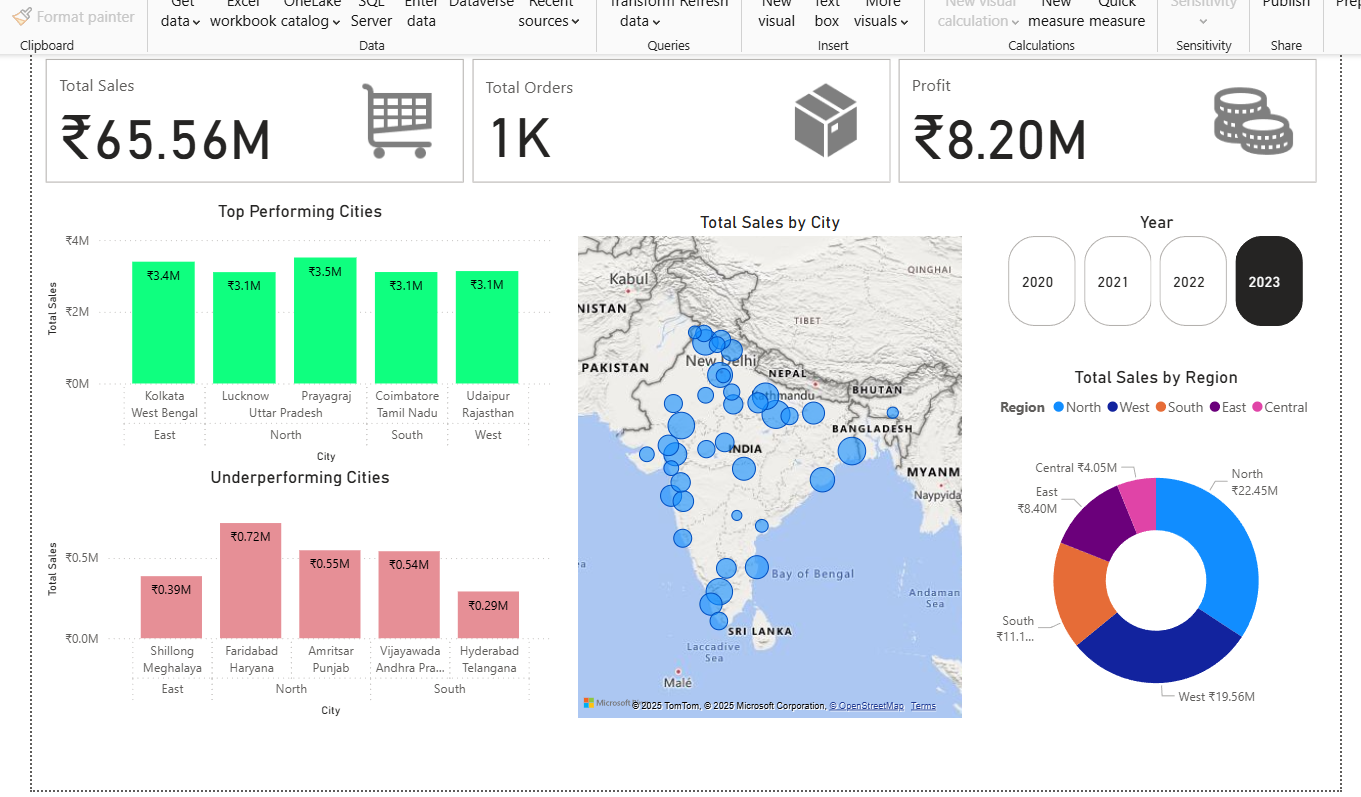

The dashboard page shown, as its layout file describes it:
{"tool":"powerbi","page":{"name":"Region","canvas":[1280,720],"ordinal":2},"visuals":[{"type":"cardVisual","fields":{"Data":["_Measures (2).Total Sales","_Measures (2).Total Orders","_Measures (2).Profit"]},"box":[8.8,0,1253.8,131.2],"z":0},{"type":"columnChart","title":"Top Performing Cities","fields":{"Category":["eSuperMart - SalesTable.Region","eSuperMart - SalesTable.State","eSuperMart - SalesTable.City"],"Y":["_Measures (2).Total Sales"]},"box":[10,142.5,505,261.2],"z":1000},{"type":"map","fields":{"Category":["eSuperMart - SalesTable.City"],"Size":["_Measures (2).Total Sales"]},"box":[530,153.8,385,500],"z":2000},{"type":"donutChart","fields":{"Category":["eSuperMart - SalesTable.Region"],"Y":["_Measures (2).Total Sales"]},"box":[936.2,306.2,326.2,370],"z":3000},{"type":"columnChart","title":"Underperforming Cities","fields":{"Category":["eSuperMart - SalesTable.Region","eSuperMart - SalesTable.State","eSuperMart - SalesTable.City"],"Y":["_Measures (2).Total Sales"]},"box":[10,403.8,505,250],"z":4000},{"type":"advancedSlicerVisual","fields":{"Values":["eSuperMart - DateTable.Year"]},"box":[950,153.8,300,117.5],"z":5001}]}

Visuals, with their boxes on the page's 1280x720 design canvas (x1, y1, x2, y2). These are canvas units, not pixel positions in the 1361x797 screenshot, which may show the page scaled, cropped or inside an application window:
cardVisual - _Measures (2).Total Sales x _Measures (2).Total Orders: box(9, 0, 1263, 131)
"Top Performing Cities" columnChart: box(10, 142, 515, 404)
map - eSuperMart - SalesTable.City x _Measures (2).Total Sales: box(530, 154, 915, 654)
donutChart - eSuperMart - SalesTable.Region x _Measures (2).Total Sales: box(936, 306, 1262, 676)
"Underperforming Cities" columnChart: box(10, 404, 515, 654)
advancedSlicerVisual - eSuperMart - DateTable.Year: box(950, 154, 1250, 271)
